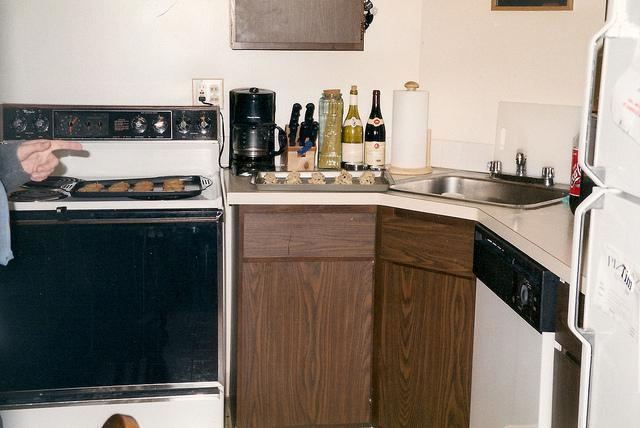Lavaplatos: (387, 148, 579, 218)
